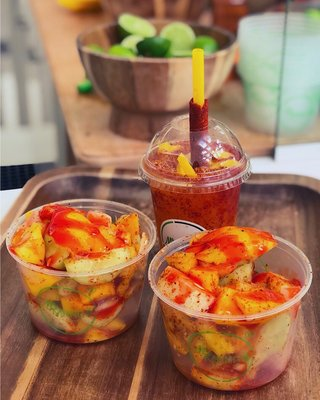pizza: (148, 226, 313, 391), (138, 114, 249, 245), (236, 3, 320, 158)
sushi: (147, 226, 313, 391), (4, 203, 156, 345), (77, 13, 238, 117)
